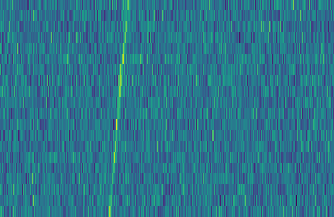signal: (104, 0, 132, 217)
